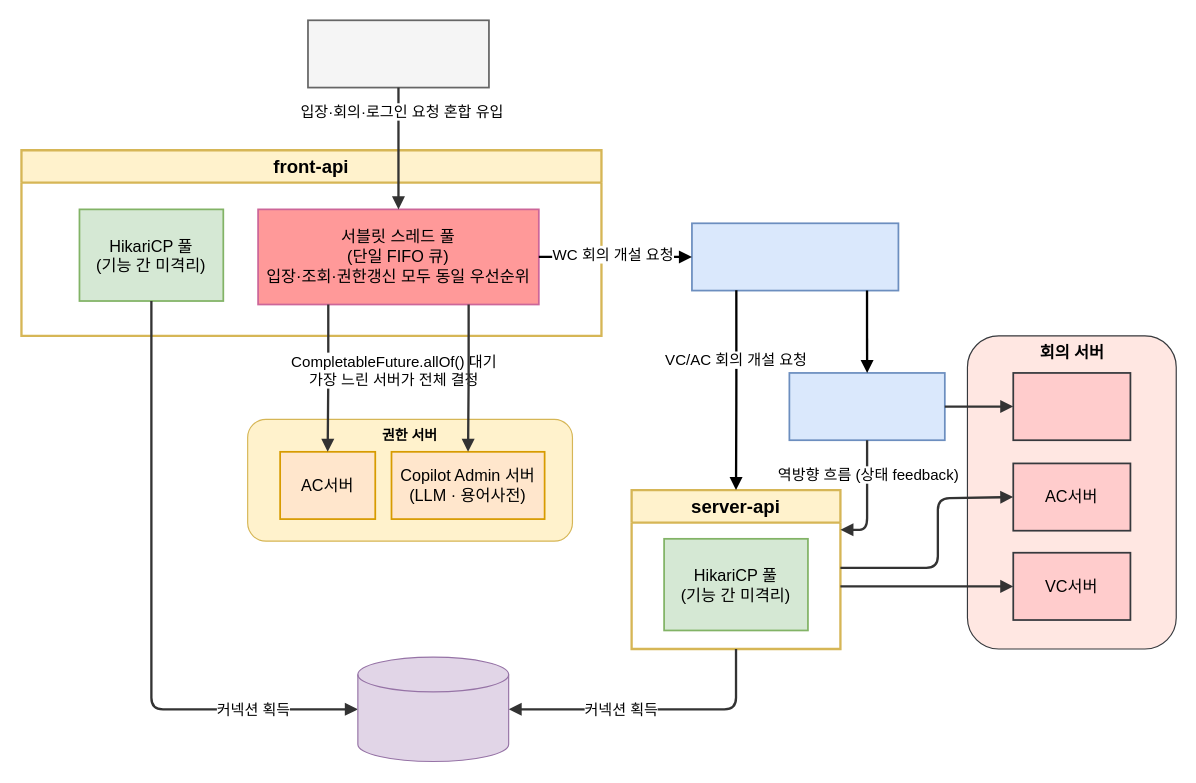
The diagram is 1196 pixels wide and 783 high, and some of its shapes have lost their labels. Here are the shapes that lost their labels. From the top down, the centre of each, then its label:
At (398,53): "클라이언트 (웹 · 모바일 · PC)".
At (795,256): "Meeting Manager".
At (866,406): "cPaaS (WC 채널/액터 관리, 참석자 상태 전달)".
At (1071,406): "WC서버".
At (433,709): "MariaDB (모든 인스턴스 공유)".
